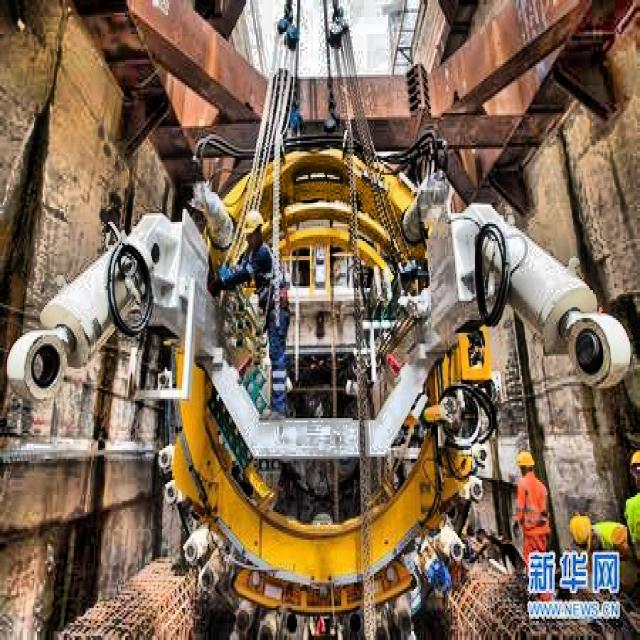helmet: (569, 514, 601, 557), (514, 448, 544, 484), (242, 209, 267, 250)
